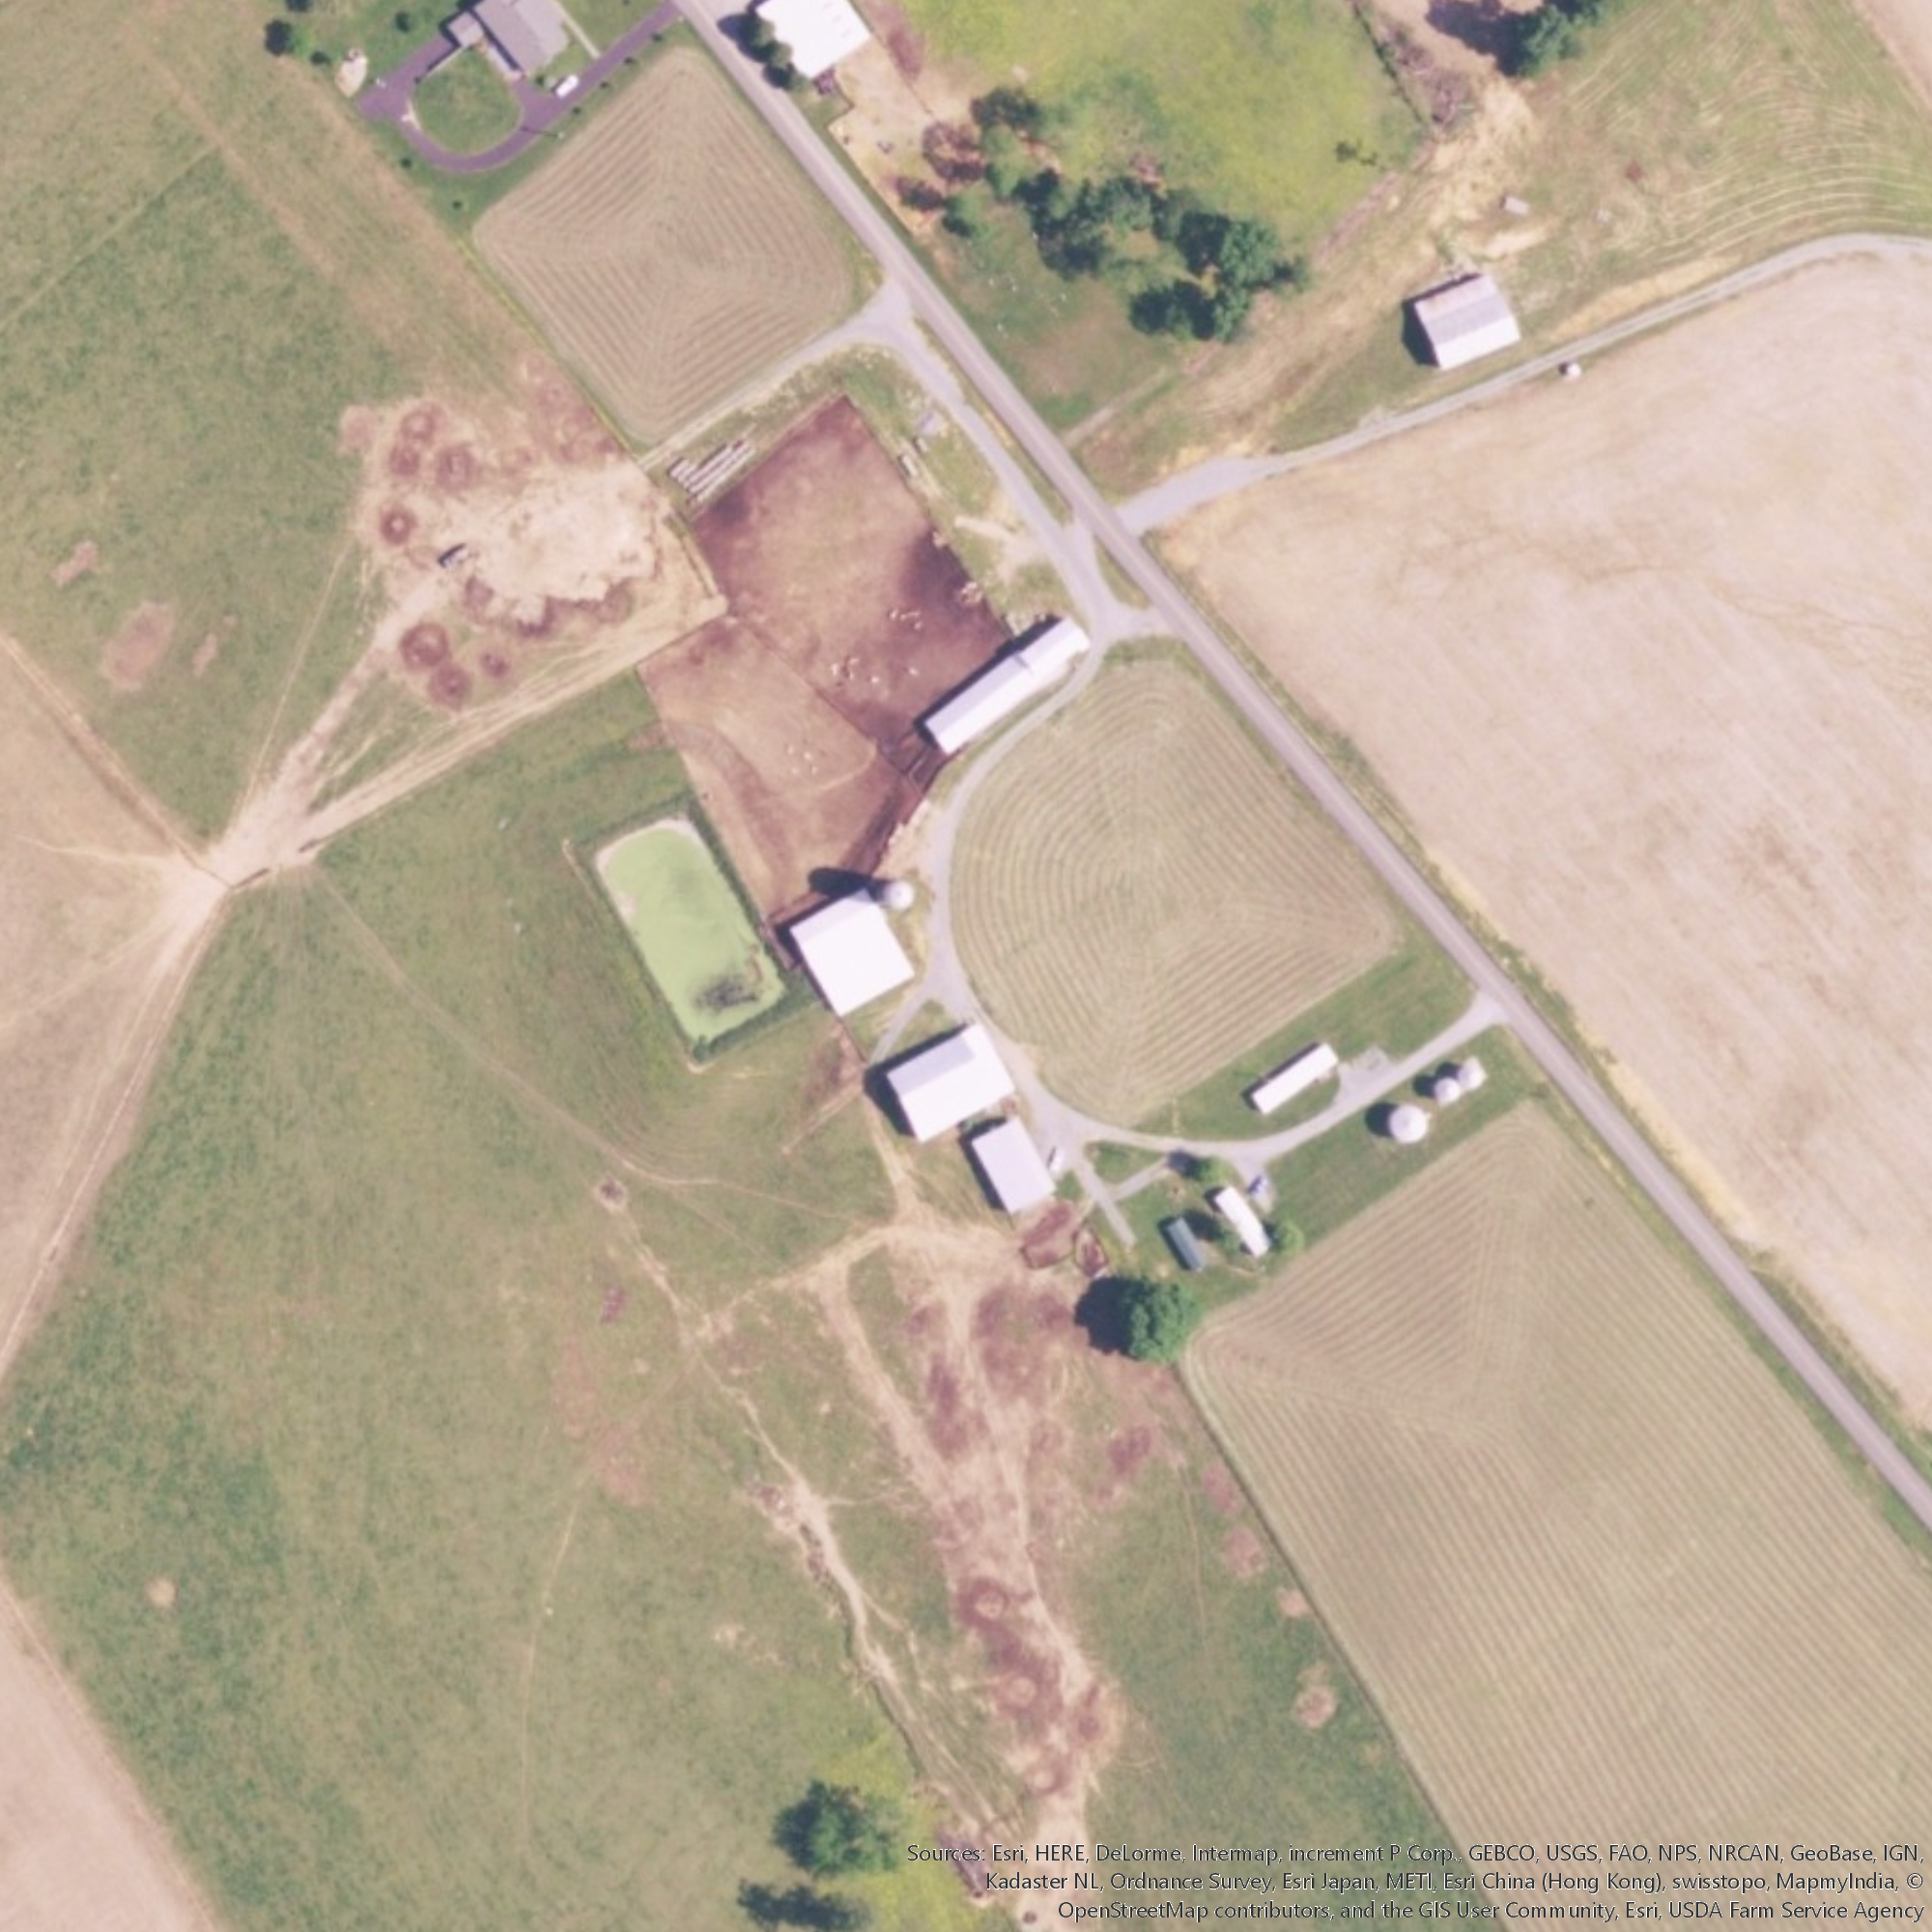cafo: (920, 612, 1093, 759), (1251, 1042, 1334, 1118)
